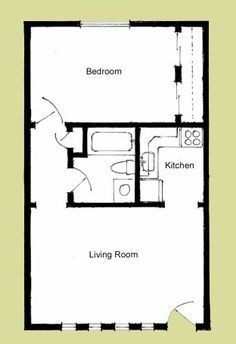room: (23, 13, 210, 331)
wall: (21, 20, 37, 327), (199, 23, 211, 328), (127, 18, 211, 29), (32, 17, 87, 30)
window: (77, 15, 129, 32)
